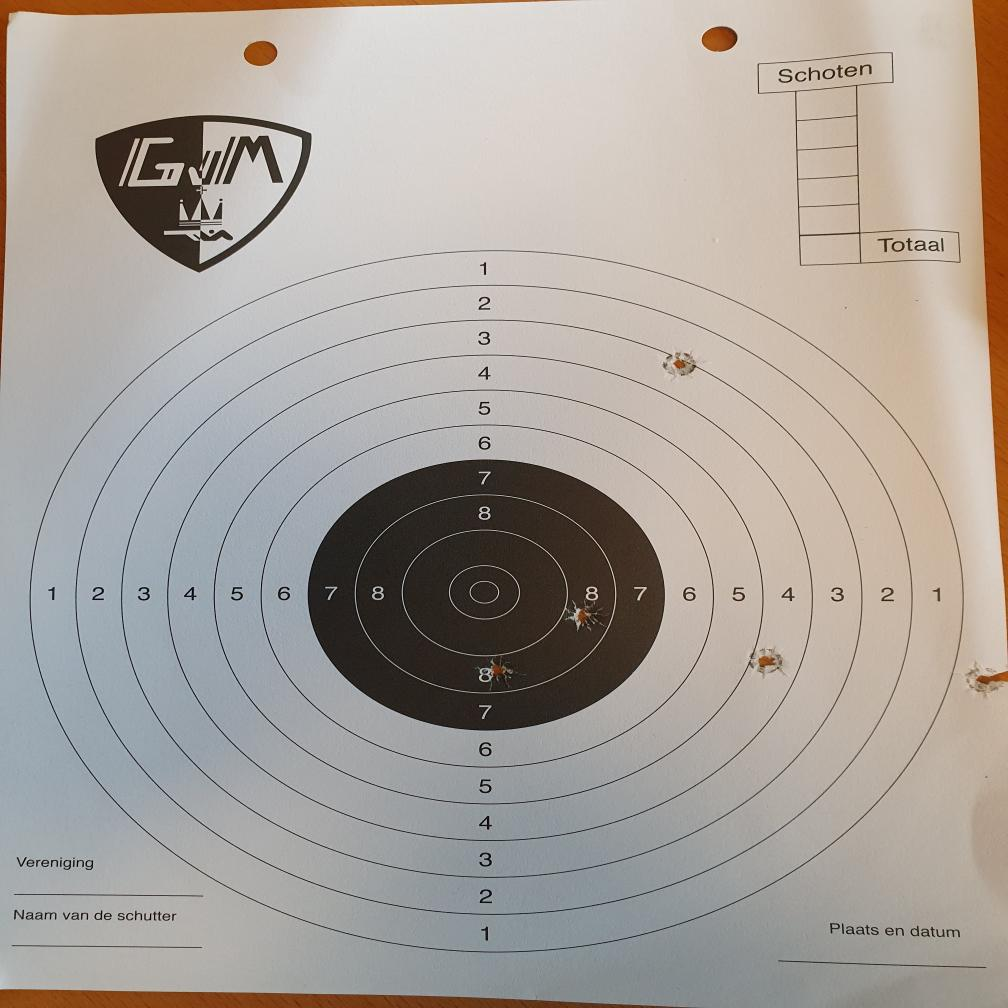0: (955, 656, 1008, 698)
3: (659, 345, 708, 383)
5: (744, 645, 790, 679)
8: (472, 652, 524, 692), (562, 598, 611, 633)
Target: (23, 244, 968, 960)
black_contour: (308, 458, 666, 731)
